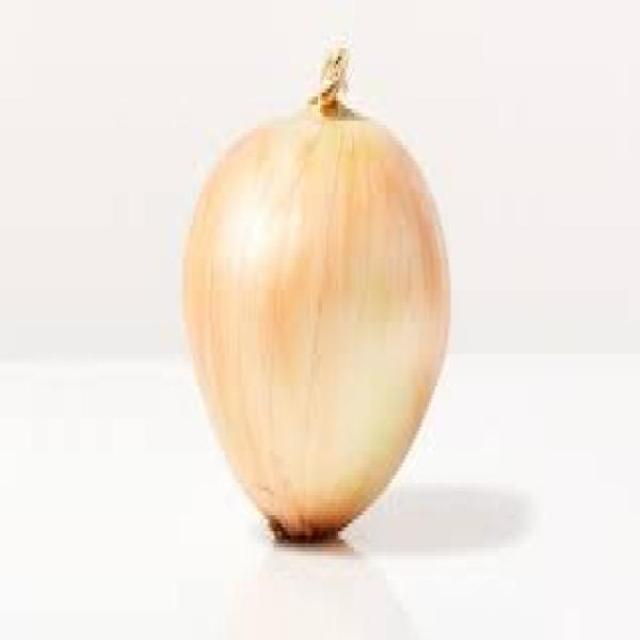Onion: (180, 45, 453, 546)
